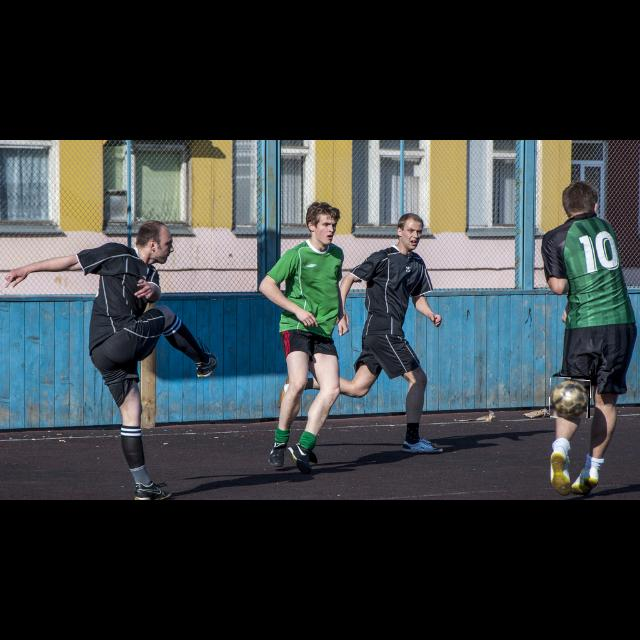Football: (550, 376, 590, 418)
